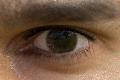eye: (46, 29, 76, 53)
